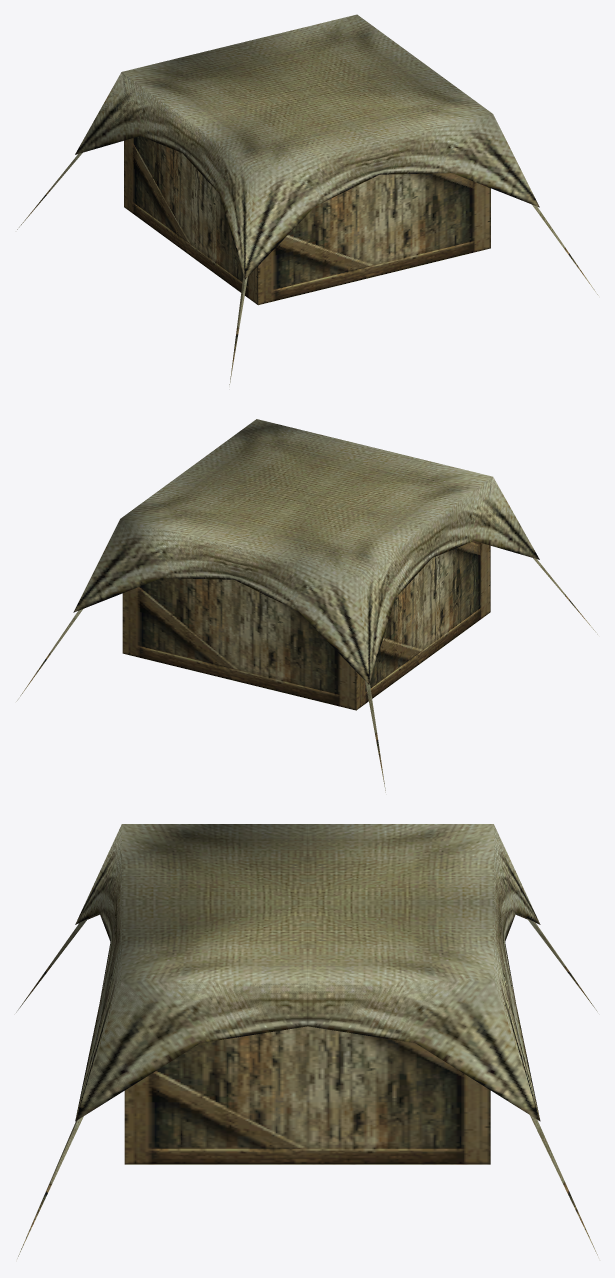
Rendered from Wcrate4.glb.
The picture shows the model from 3 angles, top to bottom: view 1: azimuth 30°, elevation 25°; view 2: azimuth 150°, elevation 25°; view 3: azimuth 270°, elevation 25°; orthographic projection. The views are drawn at different scales.
Parts seen in each view (by area): view 1: _Wcrate4; view 2: _Wcrate4; view 3: _Wcrate4.
Part boxes in pixels (bbox=[...]): _Wcrate4: bbox=[17, 14, 598, 384]; _Wcrate4: bbox=[16, 419, 597, 792]; _Wcrate4: bbox=[16, 824, 598, 1258].
Bounding box in the file's own units: 3.31 × 1.47 × 3.3.
Materials: 1 (1 with a texture image).
